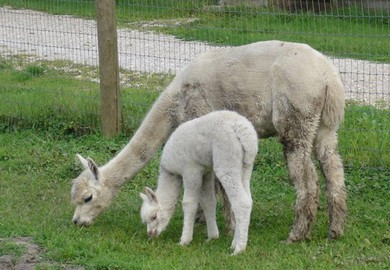alpaca: (70, 38, 348, 244), (139, 109, 259, 255)
